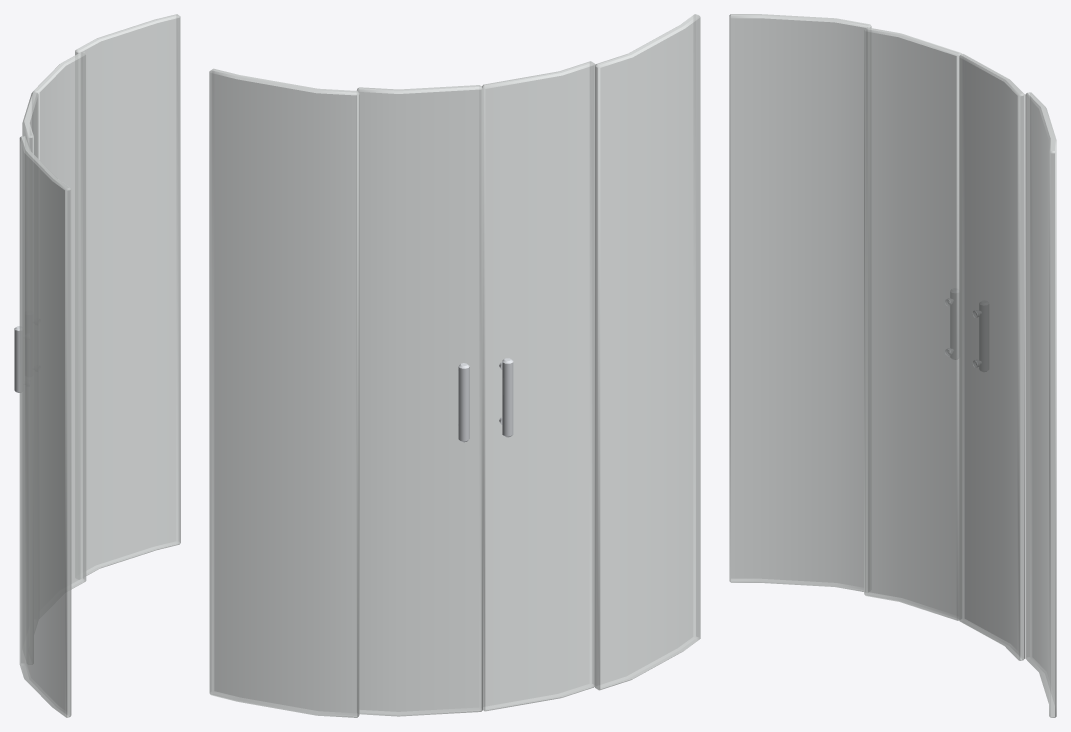
The model's file is Shower_door.fbx.
3 views of the same model, side by side, from view 1: azimuth 30°, elevation 25°; view 2: azimuth 150°, elevation 25°; view 3: azimuth 270°, elevation 25° (orthographic). The views are drawn at different scales.
Parts seen in each view (by area): view 1: Shower_door; view 2: Shower_door; view 3: Shower_door.
Part boxes in pixels (<box>): Shower_door: <box>14,14,180,717</box>; Shower_door: <box>209,14,700,717</box>; Shower_door: <box>729,14,1056,717</box>.
Bounding box in the file's own units: 0.8686 × 1.66 × 0.8686.
